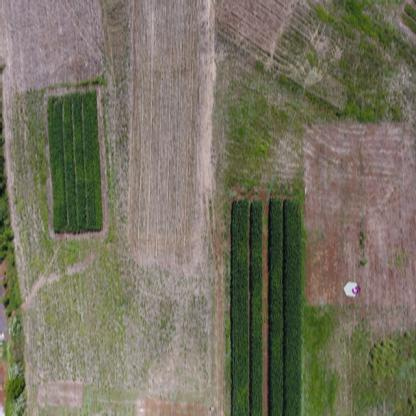5: (352, 284, 362, 294)
hexagon: (343, 280, 360, 298)
